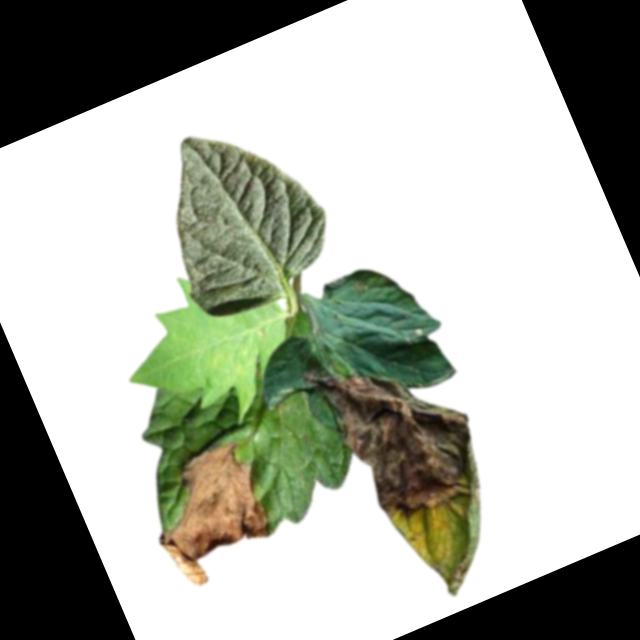Late_blight: (301, 313, 531, 617), (134, 436, 289, 594), (206, 347, 230, 372), (250, 324, 273, 347)
healthy: (131, 98, 350, 330)
